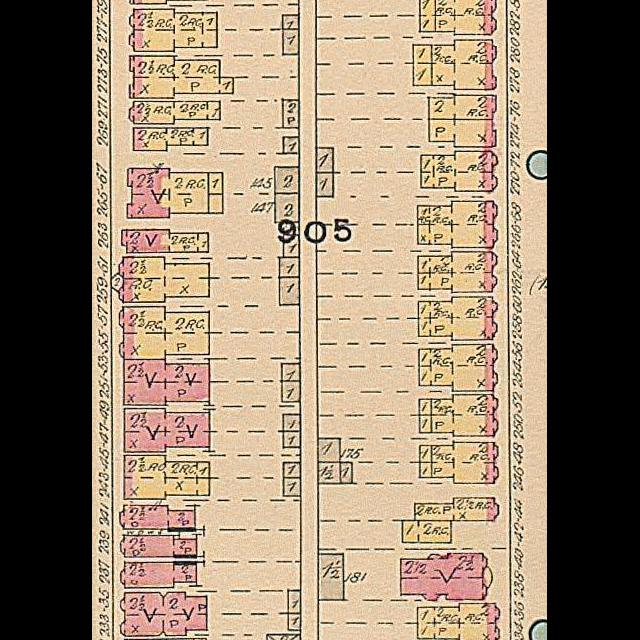building-footprints: (120, 307, 210, 359), (130, 56, 234, 98), (119, 257, 210, 303), (414, 40, 497, 89), (128, 169, 209, 218), (124, 359, 210, 405), (401, 554, 487, 600), (130, 9, 218, 52), (121, 592, 207, 636), (418, 201, 498, 248), (125, 455, 210, 499), (419, 344, 498, 391), (125, 409, 210, 452), (419, 297, 498, 340), (418, 252, 497, 292), (421, 151, 498, 191), (418, 603, 500, 640), (432, 442, 498, 483), (432, 395, 498, 436), (130, 101, 221, 124), (436, 0, 497, 34), (121, 562, 197, 588), (122, 230, 209, 252), (429, 119, 496, 147), (415, 498, 499, 520), (120, 505, 196, 529), (134, 128, 208, 151), (429, 95, 497, 119), (121, 535, 197, 556), (319, 554, 344, 600), (403, 520, 452, 543), (275, 193, 299, 222), (275, 167, 300, 193), (279, 277, 300, 305), (319, 438, 341, 463), (420, 0, 436, 31), (319, 462, 341, 484), (283, 100, 300, 128), (317, 173, 334, 197), (317, 148, 333, 173), (279, 257, 299, 277), (282, 381, 300, 402), (284, 29, 299, 54), (284, 235, 300, 257), (283, 363, 300, 381), (284, 414, 301, 432), (283, 431, 301, 448), (288, 590, 301, 613), (209, 173, 223, 194), (283, 462, 301, 478), (285, 478, 301, 496), (340, 461, 353, 483), (283, 137, 299, 154), (209, 194, 223, 213), (283, 15, 300, 29), (283, 222, 300, 235), (288, 613, 301, 630), (420, 445, 432, 463), (419, 399, 432, 415), (420, 415, 432, 432), (268, 634, 300, 640), (420, 461, 432, 477)
